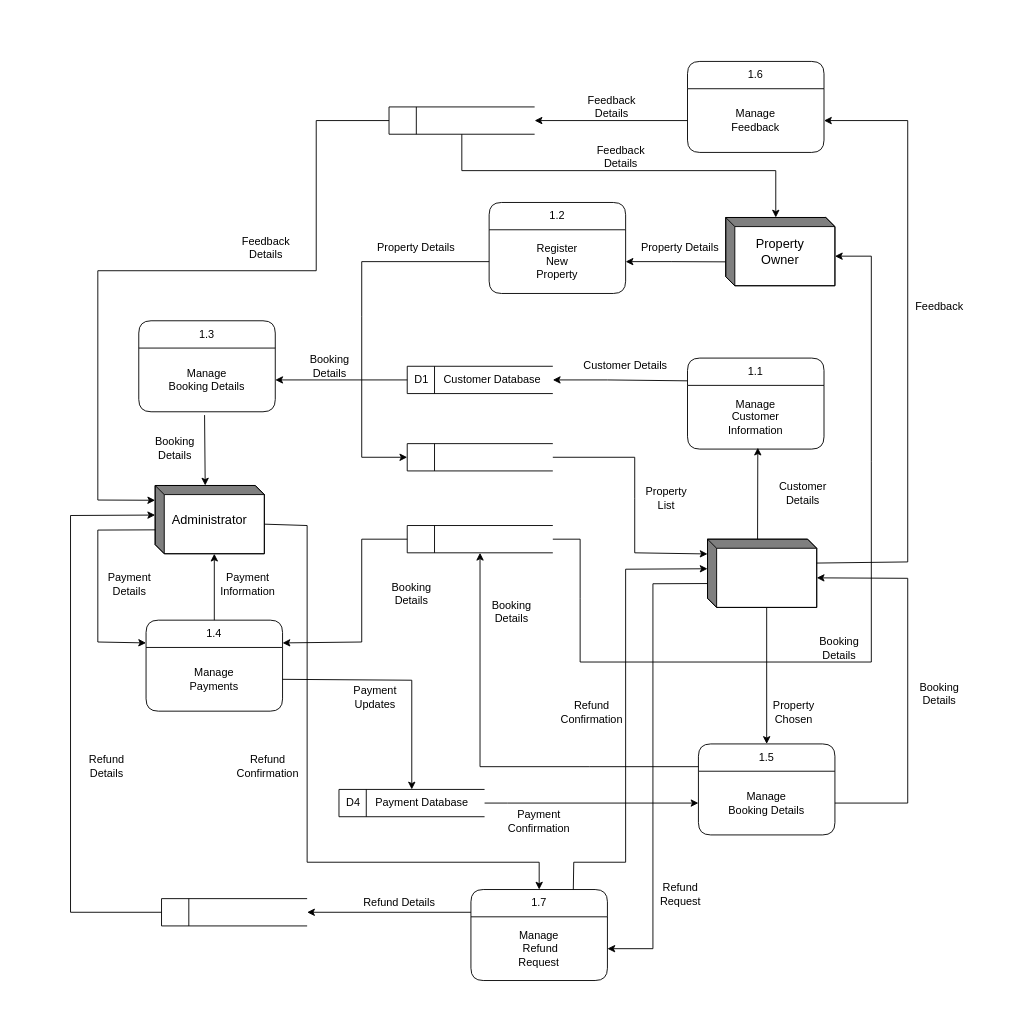
Image size: 1014x1032. Some labels were removed from this diagram. The centre of each missing label's shape, as x and y in pixels:
"Customer" goes at point (762, 572).
"D2 Property Database" goes at point (479, 457).
"D3 Booking Database" goes at point (479, 539).
"D5 Feedback Database" goes at point (461, 120).
"D6 Refund Database" goes at point (234, 912).
